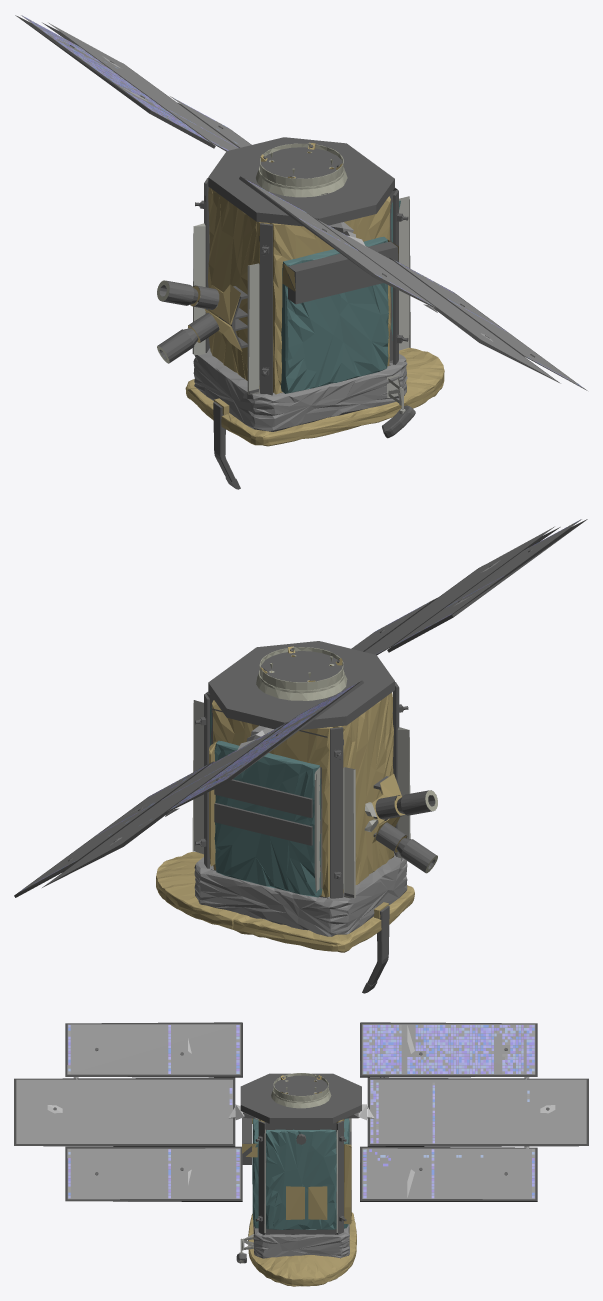
File: cloudsat.glb
3 renders of one model, top to bottom at view 1: azimuth 30°, elevation 25°; view 2: azimuth 150°, elevation 25°; view 3: azimuth 270°, elevation 25°, orthographic. The views are drawn at different scales.
Parts seen in each view (by area): view 1: Cloudsat_Unity_v002 [Layer1], Cloudsat_Unity_v002 [Layer5], Cloudsat_Unity_v002 [Layer12], Cloudsat_Unity_v002 [Layer4], Cloudsat_Unity_v002 [Layer2], Cloudsat_Unity_v002 [Layer3], Cloudsat_Unity_v002 [Layer7], Cloudsat_Unity_v002 [Layer11], Cloudsat_Unity_v002 [Layer8], Cloudsat_Unity_v002 [Layer6]; view 2: Cloudsat_Unity_v002 [Layer1], Cloudsat_Unity_v002 [Layer12], Cloudsat_Unity_v002 [Layer4], Cloudsat_Unity_v002 [Layer5], Cloudsat_Unity_v002 [Layer2], Cloudsat_Unity_v002 [Layer3], Cloudsat_Unity_v002 [Layer7], Cloudsat_Unity_v002 [Layer11], Cloudsat_Unity_v002 [Layer8], Cloudsat_Unity_v002 [Layer6]; view 3: Cloudsat_Unity_v002 [Layer12], Cloudsat_Unity_v002 [Layer11], Cloudsat_Unity_v002 [Layer1], Cloudsat_Unity_v002 [Layer5], Cloudsat_Unity_v002 [Layer3], Cloudsat_Unity_v002 [Layer2], Cloudsat_Unity_v002 [Layer6], Cloudsat_Unity_v002 [Layer16], Cloudsat_Unity_v002 [Layer18], Cloudsat_Unity_v002 [Layer15], Cloudsat_Unity_v002 [Layer17], Cloudsat_Unity_v002 [Layer19] (+6 smaller).
Boxes of the visible parts, bbox=[...] form: Cloudsat_Unity_v002 [Layer1]: bbox=[70, 45, 534, 489]; Cloudsat_Unity_v002 [Layer5]: bbox=[280, 200, 400, 393]; Cloudsat_Unity_v002 [Layer12]: bbox=[21, 15, 582, 387]; Cloudsat_Unity_v002 [Layer4]: bbox=[208, 187, 390, 394]; Cloudsat_Unity_v002 [Layer2]: bbox=[193, 348, 407, 431]; Cloudsat_Unity_v002 [Layer3]: bbox=[185, 347, 444, 446]; Cloudsat_Unity_v002 [Layer7]: bbox=[192, 196, 410, 414]; Cloudsat_Unity_v002 [Layer11]: bbox=[15, 15, 587, 390]; Cloudsat_Unity_v002 [Layer8]: bbox=[157, 143, 347, 363]; Cloudsat_Unity_v002 [Layer6]: bbox=[188, 142, 398, 414]; Cloudsat_Unity_v002 [Layer1]: bbox=[68, 549, 532, 993]; Cloudsat_Unity_v002 [Layer12]: bbox=[20, 519, 581, 891]; Cloudsat_Unity_v002 [Layer4]: bbox=[212, 692, 394, 897]; Cloudsat_Unity_v002 [Layer5]: bbox=[210, 705, 322, 897]; Cloudsat_Unity_v002 [Layer2]: bbox=[194, 853, 407, 936]; Cloudsat_Unity_v002 [Layer3]: bbox=[156, 852, 414, 952]; Cloudsat_Unity_v002 [Layer7]: bbox=[192, 700, 410, 898]; Cloudsat_Unity_v002 [Layer11]: bbox=[14, 519, 587, 897]; Cloudsat_Unity_v002 [Layer8]: bbox=[256, 647, 437, 873]; Cloudsat_Unity_v002 [Layer6]: bbox=[209, 646, 406, 918]; Cloudsat_Unity_v002 [Layer12]: bbox=[16, 1024, 586, 1199]; Cloudsat_Unity_v002 [Layer11]: bbox=[14, 1022, 588, 1201]; Cloudsat_Unity_v002 [Layer1]: bbox=[53, 1048, 549, 1263]; Cloudsat_Unity_v002 [Layer5]: bbox=[252, 1118, 349, 1229]; Cloudsat_Unity_v002 [Layer3]: bbox=[248, 1212, 356, 1286]; Cloudsat_Unity_v002 [Layer2]: bbox=[253, 1224, 349, 1258]; Cloudsat_Unity_v002 [Layer6]: bbox=[242, 1075, 351, 1224]; Cloudsat_Unity_v002 [Layer16]: bbox=[68, 1025, 534, 1192]; Cloudsat_Unity_v002 [Layer18]: bbox=[68, 1025, 534, 1195]; Cloudsat_Unity_v002 [Layer15]: bbox=[68, 1025, 534, 1198]; Cloudsat_Unity_v002 [Layer17]: bbox=[68, 1025, 534, 1195]; Cloudsat_Unity_v002 [Layer19]: bbox=[68, 1025, 534, 1198].
Bounding box in the file's own units: 62.33 × 76.6 × 172.
